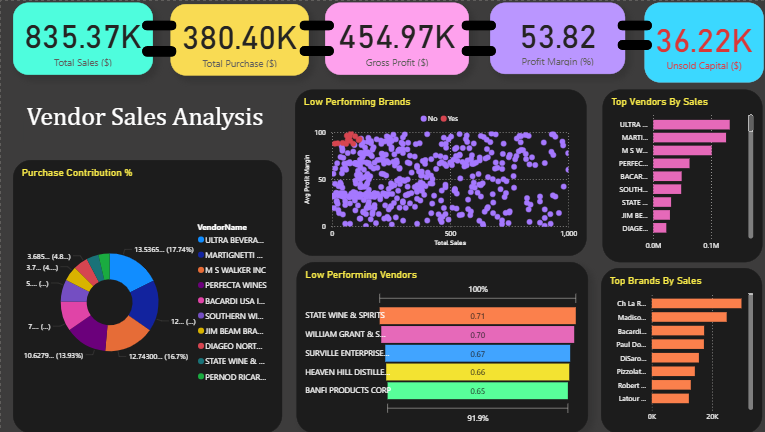

The dashboard page shown, as its layout file describes it:
{"tool":"powerbi","page":{"name":"Page 1","canvas":[1280,720],"ordinal":0},"visuals":[{"type":"card","fields":{"Values":["Sum(vendor_sales_summary (2).TotalSalesDollars)"]},"box":[20.6,1.4,233.3,120.8],"z":0},{"type":"card","fields":{"Values":["Sum(vendor_sales_summary (2).TotalPurchaseDollars)"]},"box":[281.3,4.1,230.6,119.4],"z":1000},{"type":"card","fields":{"Values":["Sum(vendor_sales_summary (2).GrossProfit)"]},"box":[540.7,2.7,240.2,120.8],"z":2000},{"type":"card","fields":{"Values":["Avg(vendor_sales_summary (2).ProfitMargin)"]},"box":[815.2,2.7,225.1,119.4],"z":3000},{"type":"card","fields":{"Values":["Sum(vendor_sales_summary (2).UnsoldCapital)"]},"box":[1072.1,1.5,198.4,133.3],"z":4000},{"type":"donutChart","title":"Purchase Contribution %","fields":{"Y":["Sum(PurchaseContribution.PurchaseContribution%)"],"Category":["PurchaseContribution.VendorName"]},"box":[20.6,264.9,448.8,455.6],"z":5000},{"type":"barChart","title":"Top Vendors By Sales","fields":{"Category":["vendor_sales_summarynew.VendorName"],"Y":["Sum(vendor_sales_summarynew.TotalSalesDollars)"]},"box":[1002.4,146.9,266.5,287.7],"z":6000},{"type":"barChart","title":"Top Brands By Sales","fields":{"Category":["vendor_sales_summarynew.Description"],"Y":["Sum(vendor_sales_summarynew.TotalSalesDollars)"]},"box":[1000.4,444.6,269,275.8],"z":7000},{"type":"funnel","title":"Low Performing Vendors","fields":{"Category":["LowTurnoverVendor.VendorName"],"Y":["Sum(LowTurnoverVendor.AvgStockTurnOver)"]},"box":[491.3,435,485.8,285.4],"z":8000},{"type":"scatterChart","title":"Low Performing Brands","fields":{"X":["Sum(BrandPerformance.TotalSales)"],"Category":["BrandPerformance.Description"],"Y":["Sum(BrandPerformance.AvgProfitMargin)"],"Series":["BrandPerformance.TargetBrand"]},"box":[490.6,146.9,486.1,277.1],"z":9000},{"type":"shape","box":[236,31.6,57.6,16.5],"z":10000},{"type":"shape","box":[236,74.1,57.6,17.8],"z":11000},{"type":"shape","box":[496.8,31.6,57.6,16.5],"z":12000},{"type":"shape","box":[496.8,74.1,57.6,16.5],"z":13000},{"type":"shape","box":[768.5,31.6,57.6,16.5],"z":14000},{"type":"shape","box":[768.5,74.1,57.6,16.5],"z":15000},{"type":"shape","box":[1027.9,31.6,57.6,16.5],"z":16000},{"type":"shape","box":[1027.9,65.9,57.6,16.5],"z":17000},{"type":"textbox","box":[37.5,165,430,70],"z":18000}]}

Visuals, with their boxes in screenshot pixels (x1, y1, x2, y2), scaled from the page's 1280x720 canvas onto the 765x432 screenshot:
card - Sum(vendor_sales_summary (2).TotalSalesDollars): [left=12, top=1, right=152, bottom=73]
card - Sum(vendor_sales_summary (2).TotalPurchaseDollars): [left=168, top=2, right=306, bottom=74]
card - Sum(vendor_sales_summary (2).GrossProfit): [left=323, top=2, right=467, bottom=74]
card - Avg(vendor_sales_summary (2).ProfitMargin): [left=487, top=2, right=622, bottom=73]
card - Sum(vendor_sales_summary (2).UnsoldCapital): [left=641, top=1, right=759, bottom=81]
"Purchase Contribution %" donutChart: [left=12, top=159, right=281, bottom=431]
"Top Vendors By Sales" barChart: [left=599, top=88, right=758, bottom=261]
"Top Brands By Sales" barChart: [left=598, top=267, right=759, bottom=431]
"Low Performing Vendors" funnel: [left=294, top=261, right=584, bottom=431]
"Low Performing Brands" scatterChart: [left=293, top=88, right=584, bottom=254]
shape: [left=141, top=19, right=175, bottom=29]
shape: [left=141, top=44, right=175, bottom=55]
shape: [left=297, top=19, right=331, bottom=29]
shape: [left=297, top=44, right=331, bottom=54]
shape: [left=459, top=19, right=494, bottom=29]
shape: [left=459, top=44, right=494, bottom=54]
shape: [left=614, top=19, right=649, bottom=29]
shape: [left=614, top=40, right=649, bottom=49]
textbox: [left=22, top=99, right=279, bottom=141]
